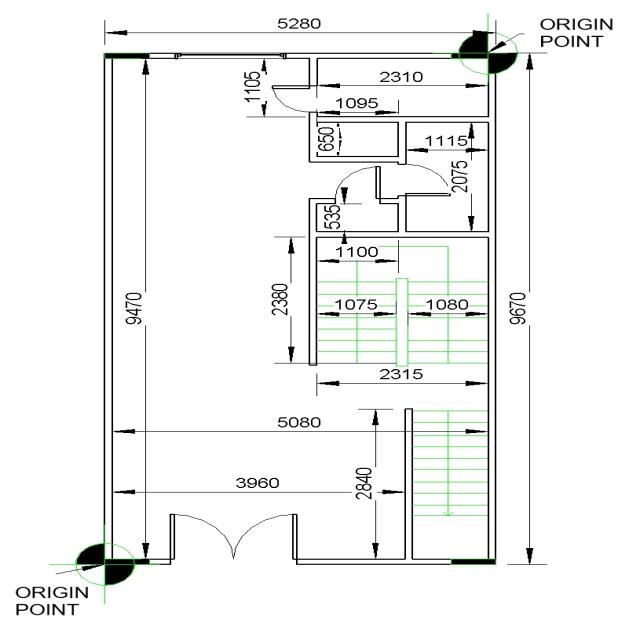Column: (105, 558, 150, 564), (105, 53, 150, 59), (451, 559, 496, 564), (451, 53, 488, 59)
Door: (334, 166, 380, 204), (398, 164, 450, 196), (272, 85, 318, 113)
Double-Door: (170, 514, 298, 565)
Staircase: (317, 238, 488, 366), (413, 408, 488, 558)
Window: (175, 53, 286, 59)
